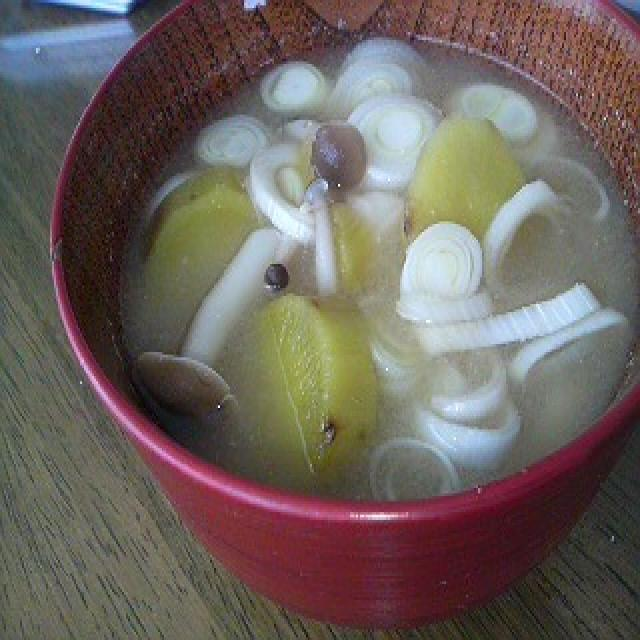汤锅炖物: (48, 0, 640, 624)
